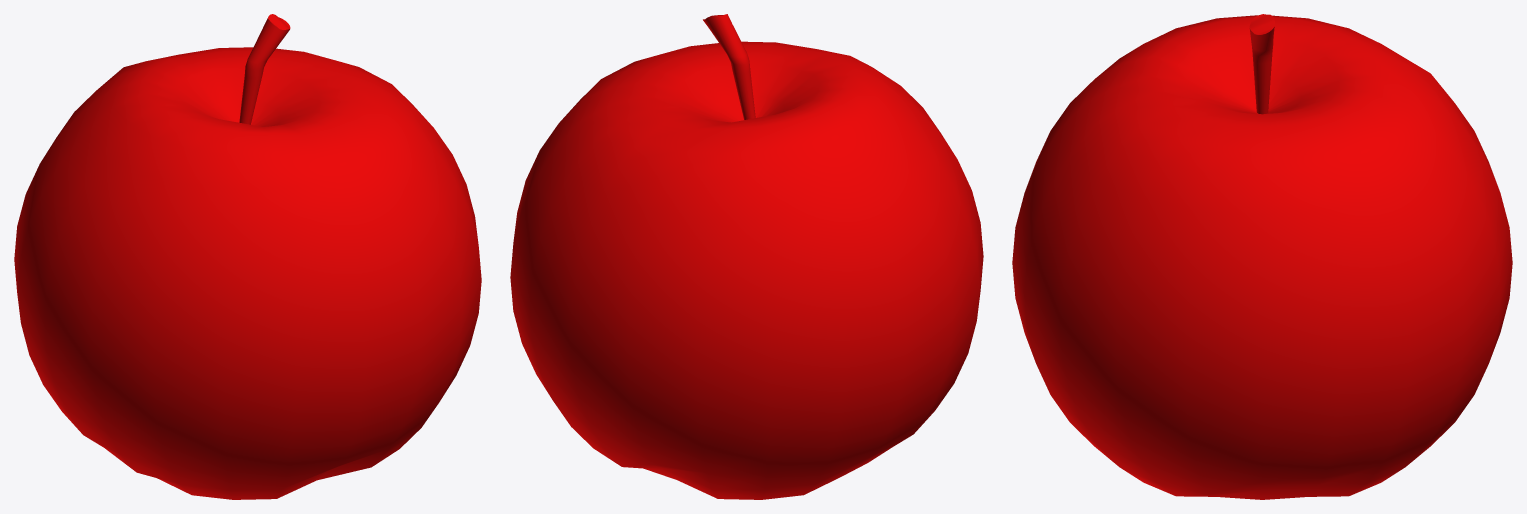
The model's file is Apple.fbx.
3 views of the same model, side by side, from view 1: azimuth 30°, elevation 25°; view 2: azimuth 150°, elevation 25°; view 3: azimuth 270°, elevation 25° (orthographic). The views are drawn at different scales.
Parts seen in each view (by area): view 1: Apple_ID; view 2: Apple_ID; view 3: Apple_ID.
Part boxes in pixels (x1,y1,x2,y2): Apple_ID: [14, 14, 481, 499]; Apple_ID: [510, 14, 983, 499]; Apple_ID: [1012, 14, 1512, 499].
Size of the model in its own units: 2.94 by 2.92 by 2.94.
